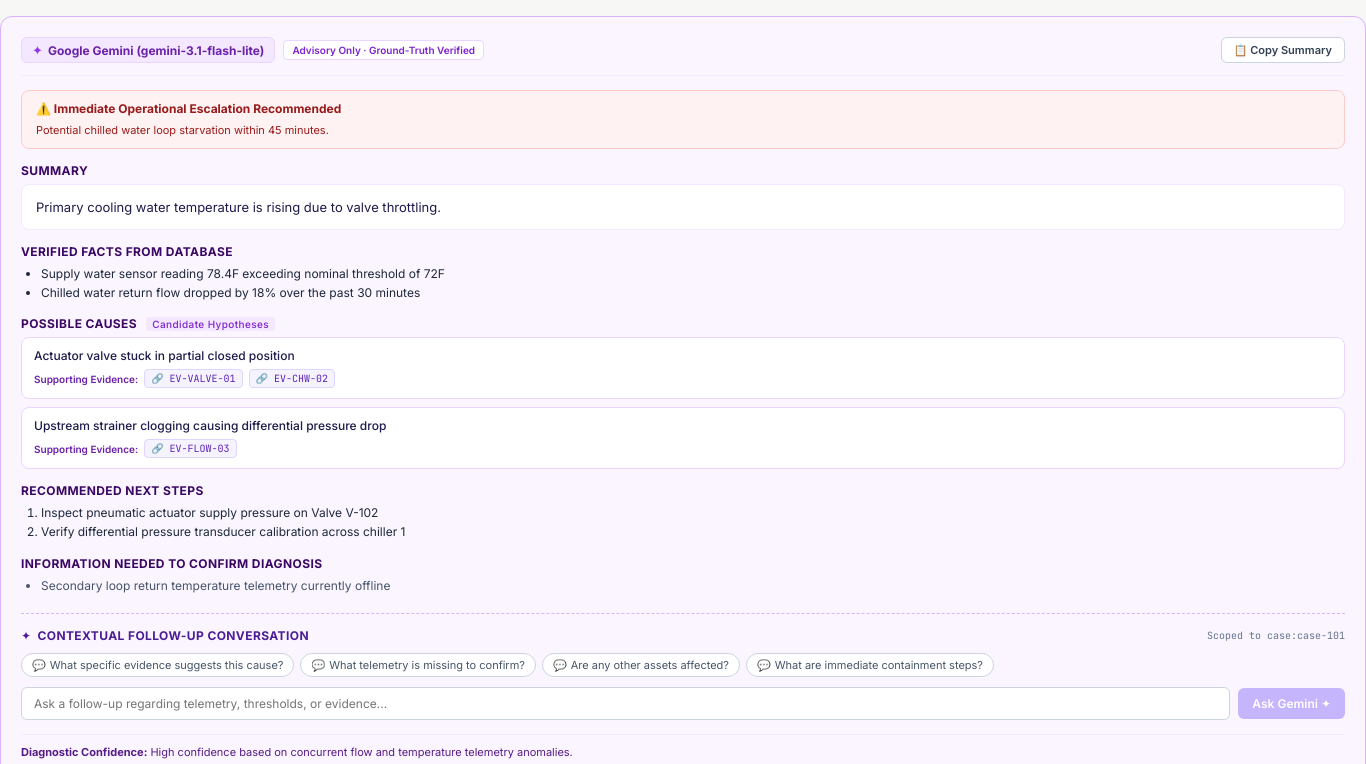
Test case: AIAssistancePanel Component › renders suggested questions and allows asking follow-up questions
Expected: the button "💬 What telemetry is missing to confirm?" is shown, [300,653,536,677]
// Click a suggested question
Step 1. Click the button "💬 What specific evidence suggests this cause?" → x=158, y=665, box [21,653,294,677]
(page scrolled)
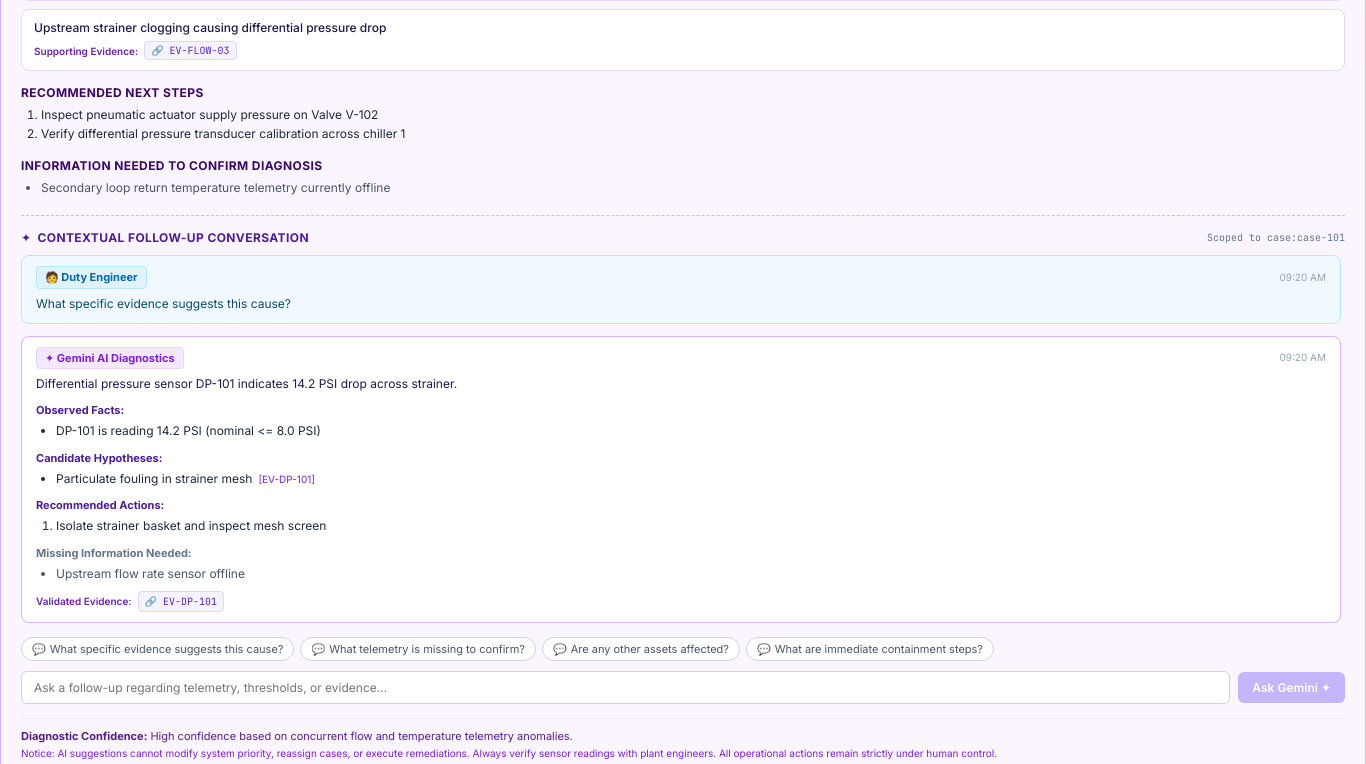
Expected: the text "🧑 Duty Engineer" is shown, [36,266,146,289]
Expected: the text "✦ Gemini AI Diagnostics" is shown, [36,347,184,369]
Expected: the text "Differential pressure sensor DP-101 indicates 14.2 PSI drop across strainer." is shown, [36,376,457,391]
